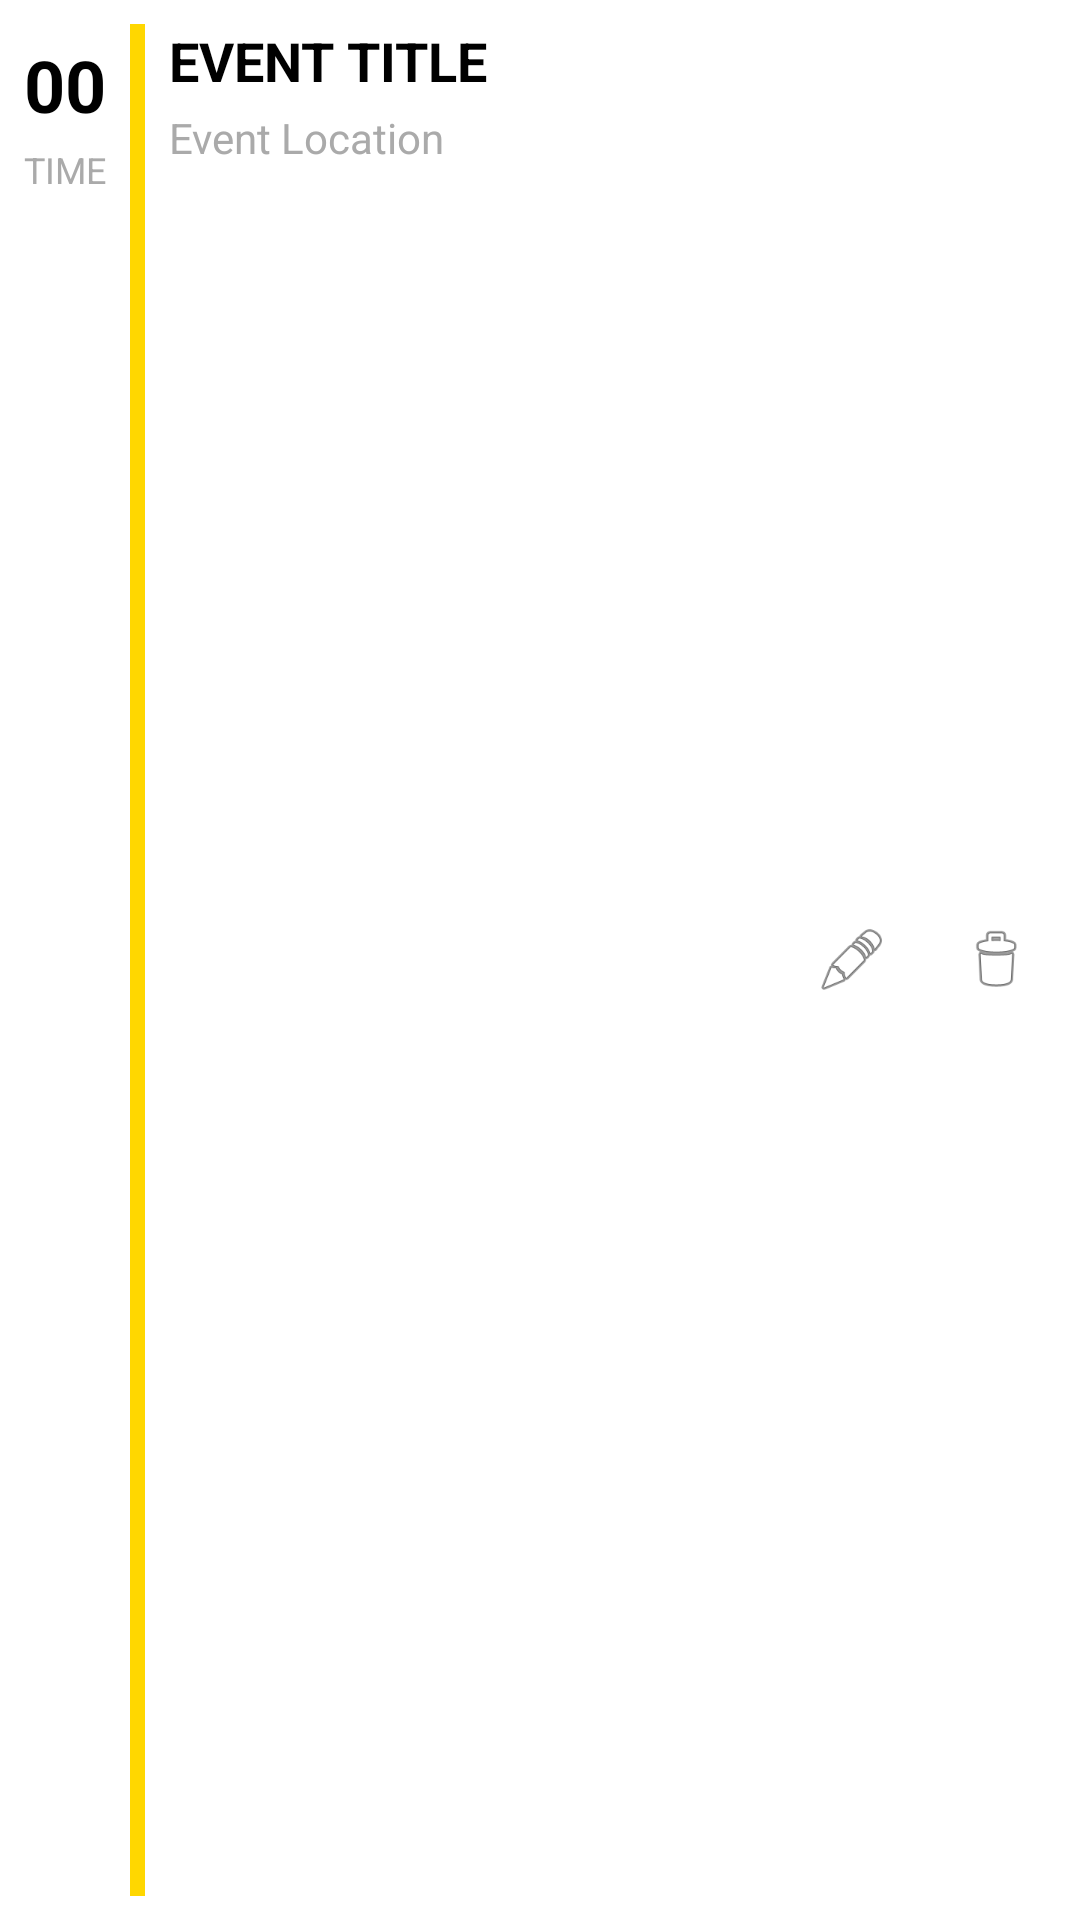

Named icons in this screenshot (1080 x 1920) and their bounding boxes, region(x1, y1, x2, y2):
Delete Event: region(976, 931, 1017, 987)
Edit Event: region(821, 929, 882, 990)
